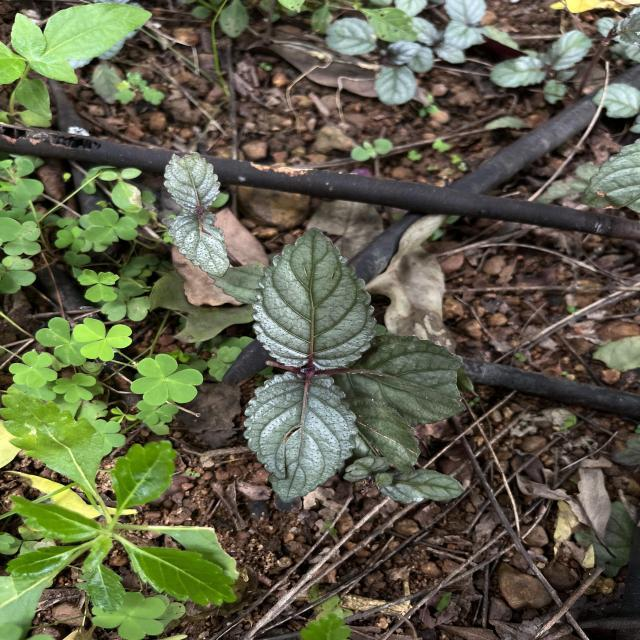Hemigraphis colorata: (248, 225, 379, 372), (241, 368, 360, 506), (330, 331, 470, 428), (167, 212, 234, 280), (160, 148, 223, 210)
